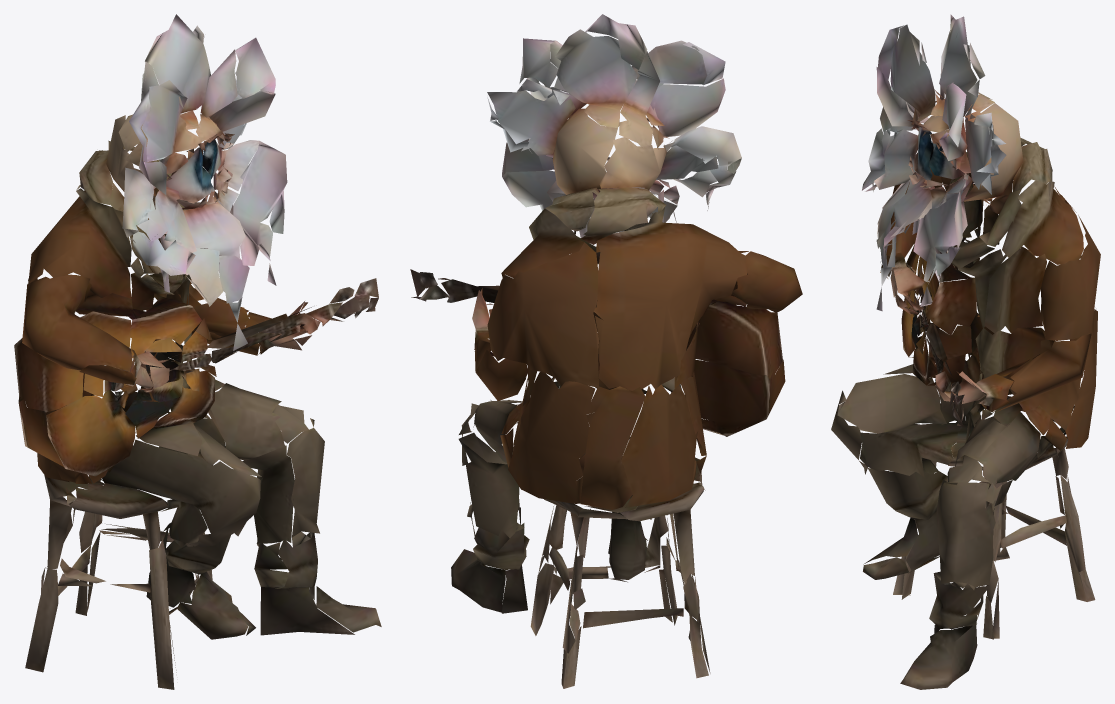
The model's file is seat_folksinger.glb.
3 views of the same model, side by side, from view 1: azimuth 30°, elevation 25°; view 2: azimuth 150°, elevation 25°; view 3: azimuth 270°, elevation 25° (orthographic). The views are drawn at different scales.
Parts seen in each view (by area): view 1: tripo_node_506e7adc-c99f-441d-aa60-8759da290647; view 2: tripo_node_506e7adc-c99f-441d-aa60-8759da290647; view 3: tripo_node_506e7adc-c99f-441d-aa60-8759da290647.
Boxes of the visible parts, x1=… form: tripo_node_506e7adc-c99f-441d-aa60-8759da290647: x1=14, y1=14, x2=381, y2=689; tripo_node_506e7adc-c99f-441d-aa60-8759da290647: x1=410, y1=14, x2=802, y2=688; tripo_node_506e7adc-c99f-441d-aa60-8759da290647: x1=831, y1=14, x2=1100, y2=689.
Size of the model in its own units: 0.6105 by 0.9991 by 0.4073.
1 material, 1 textured.
